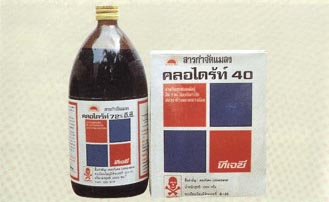Insecticide: (145, 45, 269, 200), (63, 2, 153, 200)
